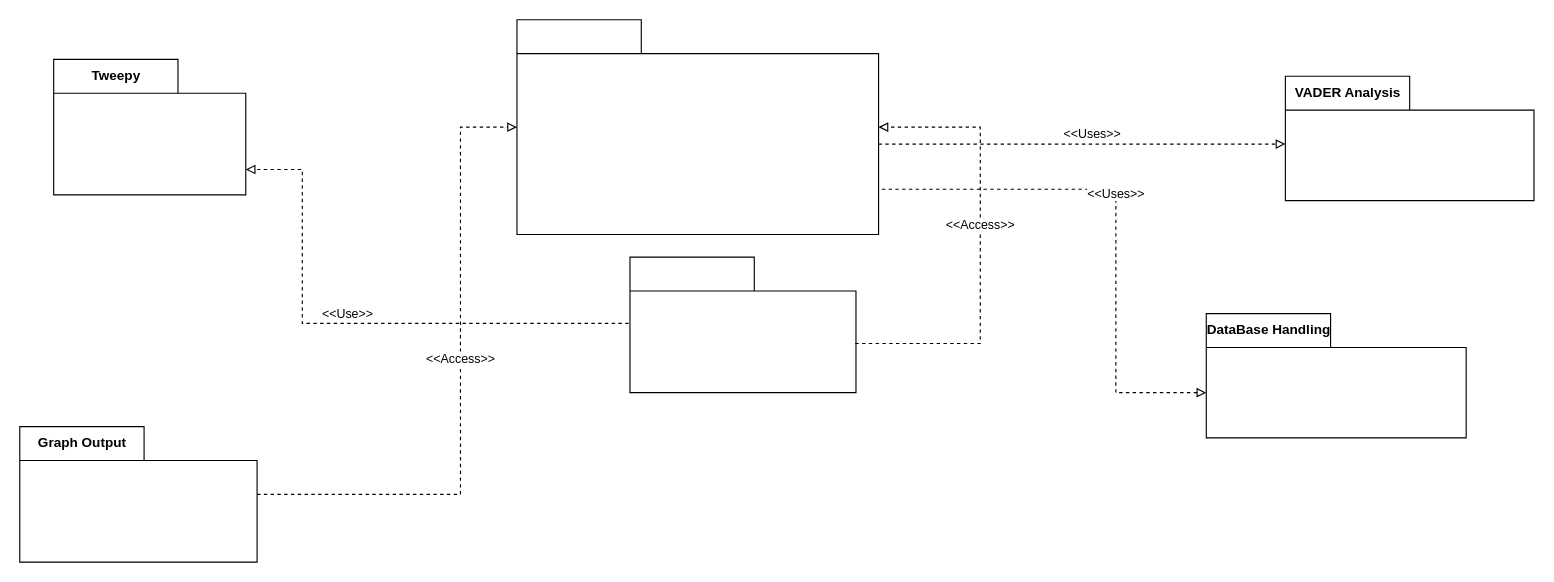
Some shapes in this 1554 by 582 pixel diagram are drawn without their labels. The shapes that lost their labels are listed below. From the top down, each one's box as (x1, y1, x2, y2) in pixels, then its label:
(516, 19, 879, 234): DataBase
(629, 256, 856, 393): Tweet Handling
